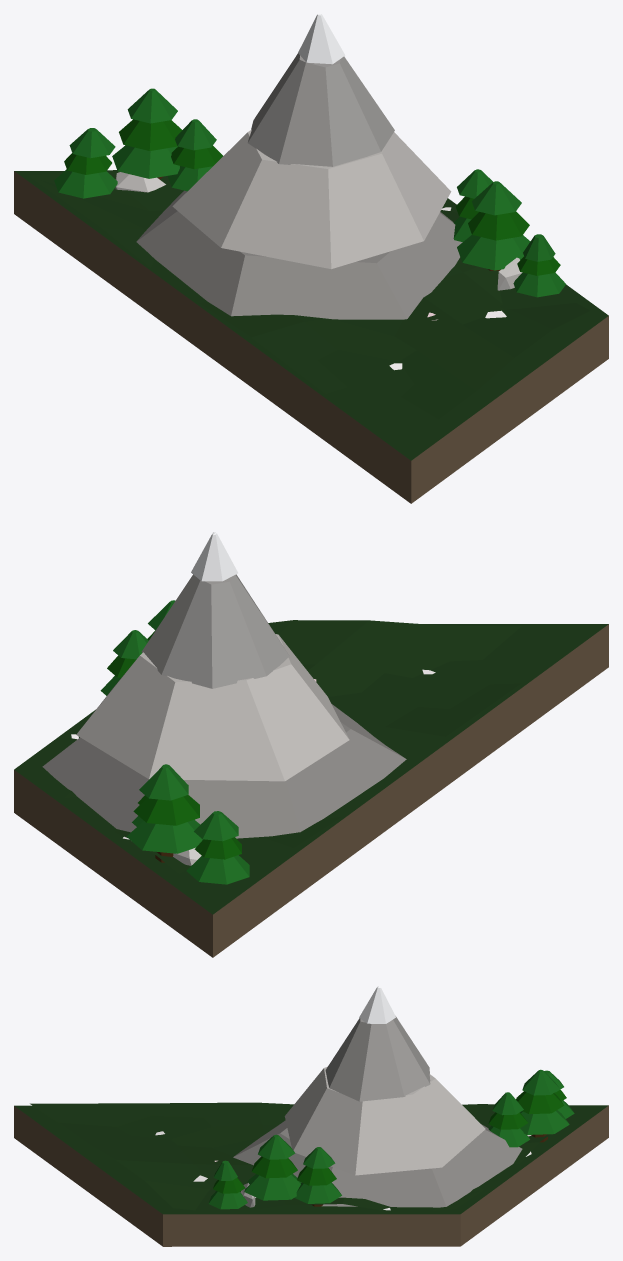
File: mountain_half_sprint3.glb
3 renders of one model, top to bottom at view 1: azimuth 30°, elevation 25°; view 2: azimuth 150°, elevation 25°; view 3: azimuth 270°, elevation 25°, orthographic. The views are drawn at different scales.
Parts seen in each view (by area): view 1: DiagonalSplitBase, Terrain, Fuji_1, Fuji_0, Fuji_2, PineCone_20_0, PineCone_10_0, PineCone_10_1, Fuji_3, PineCone_20_1, PineCone_30_0, PineCone_10_2 (+7 smaller); view 2: DiagonalSplitBase, Terrain, Fuji_1, Fuji_0, Fuji_2, PineCone_10_0, PineCone_10_1, PineCone_30_0, Fuji_3, PineCone_10_2, PineCone_30_2, PineCone_30_1 (+1 smaller); view 3: DiagonalSplitBase, Terrain, Fuji_1, Fuji_0, Fuji_2, PineCone_20_0, PineCone_10_0, Fuji_3, PineCone_10_1, PineCone_21_0, PineCone_20_1, PineCone_10_2 (+8 smaller).
Boxes of the visible parts, x1,y1,x2,y2 form: DiagonalSplitBase: [14, 171, 608, 503]; Terrain: [29, 170, 590, 450]; Fuji_1: [172, 129, 451, 269]; Fuji_0: [136, 190, 462, 319]; Fuji_2: [248, 53, 394, 166]; PineCone_20_0: [457, 235, 530, 270]; PineCone_10_0: [112, 145, 179, 178]; PineCone_10_1: [119, 119, 182, 150]; Fuji_3: [298, 14, 345, 64]; PineCone_20_1: [468, 211, 529, 240]; PineCone_30_0: [54, 169, 117, 198]; PineCone_10_2: [127, 88, 177, 123]; DiagonalSplitBase: [14, 624, 608, 957]; Terrain: [27, 620, 598, 906]; Fuji_1: [76, 634, 349, 781]; Fuji_0: [42, 704, 406, 838]; Fuji_2: [141, 574, 289, 688]; PineCone_10_0: [126, 820, 202, 853]; PineCone_10_1: [133, 795, 199, 825]; PineCone_30_0: [186, 855, 249, 884]; Fuji_3: [191, 532, 237, 581]; PineCone_10_2: [139, 765, 188, 800]; PineCone_30_2: [194, 811, 238, 841]; PineCone_30_1: [194, 837, 241, 859]; DiagonalSplitBase: [14, 1105, 608, 1246]; Terrain: [30, 1102, 595, 1210]; Fuji_1: [284, 1066, 485, 1175]; Fuji_0: [233, 1120, 522, 1207]; Fuji_2: [325, 1016, 430, 1101]; PineCone_20_0: [244, 1174, 301, 1200]; PineCone_10_0: [520, 1110, 569, 1134]; Fuji_3: [359, 986, 395, 1023]; PineCone_10_1: [516, 1091, 564, 1113]; PineCone_21_0: [294, 1182, 341, 1203]; PineCone_20_1: [251, 1156, 297, 1178]; PineCone_10_2: [522, 1069, 559, 1095].
Bounding box in the file's own units: 2.19 × 1.91 × 5.
